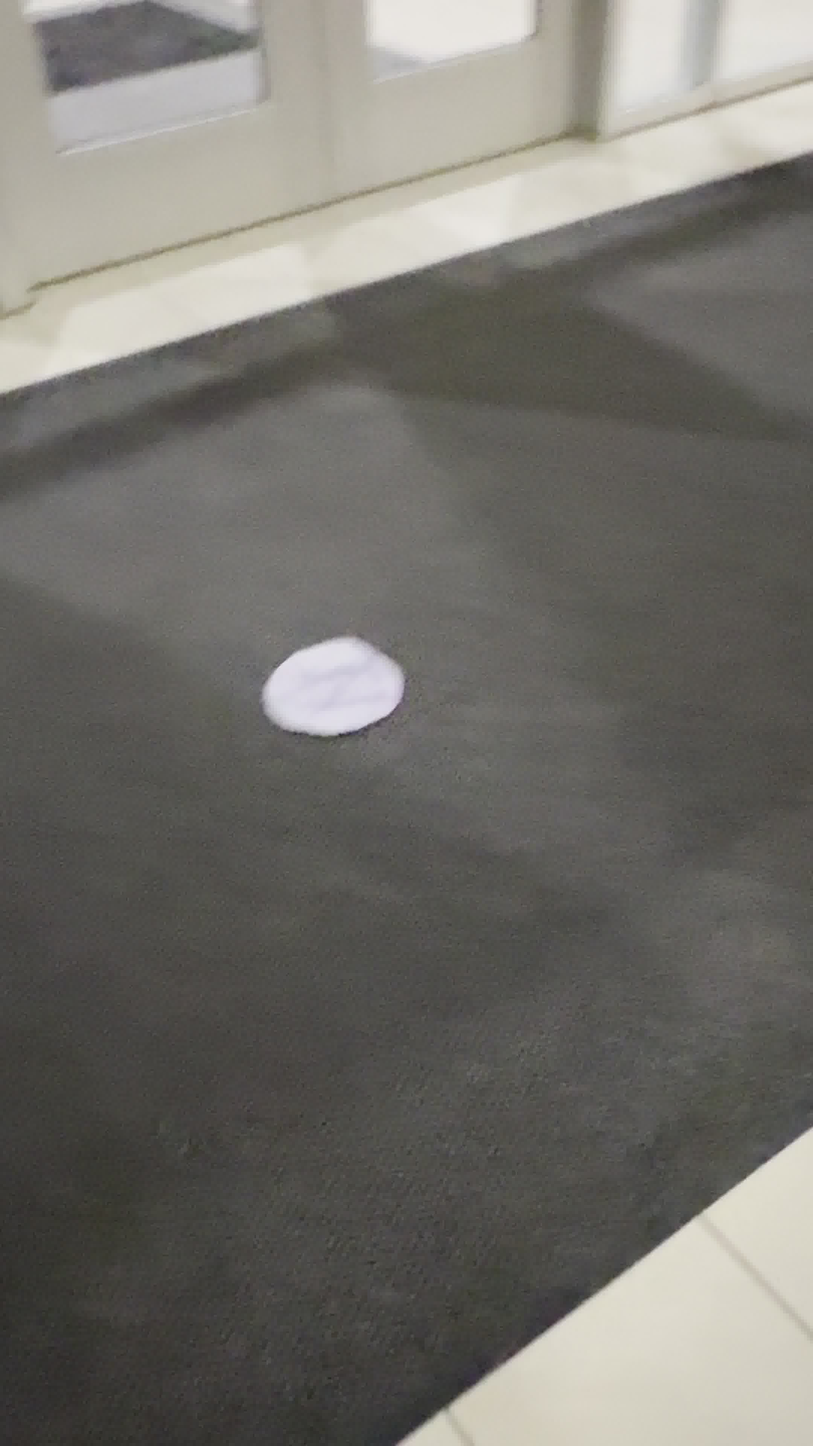Target: (260, 636, 404, 738)
